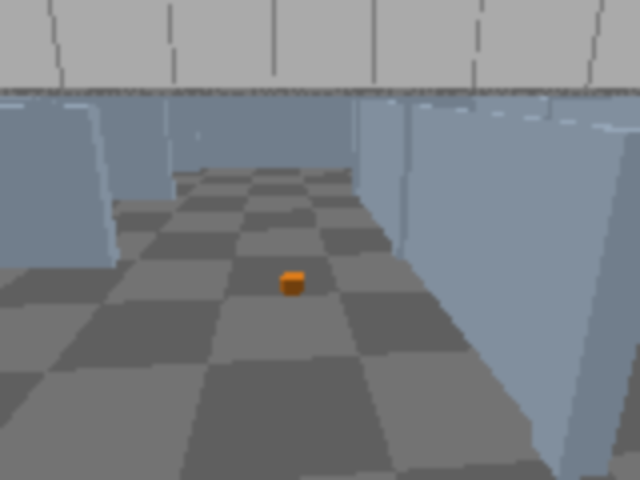puck: (280, 272, 304, 295)
